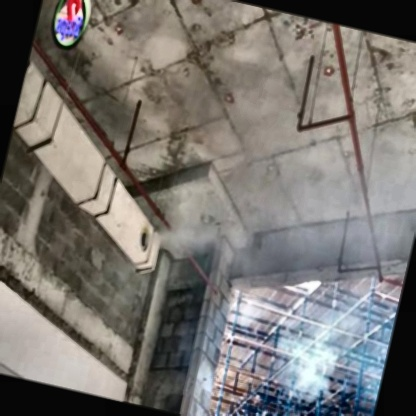smoke: (280, 267, 362, 412)
